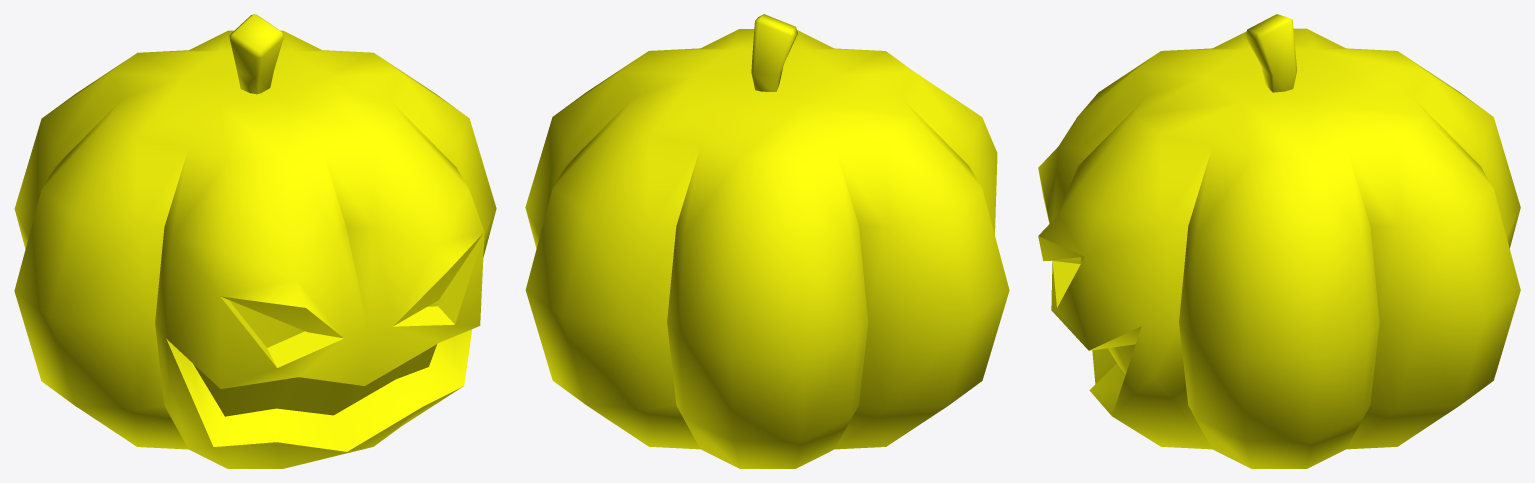
File: kaykit-pumpkin-yellow-jackolantern.glb
3 views of the same model, side by side, from view 1: azimuth 30°, elevation 25°; view 2: azimuth 150°, elevation 25°; view 3: azimuth 270°, elevation 25° (orthographic).
Parts seen in each view (by area): view 1: pumpkin_yellow_jackolantern; view 2: pumpkin_yellow_jackolantern; view 3: pumpkin_yellow_jackolantern.
Boxes of the visible parts, x1,y1,x2,y2 form: pumpkin_yellow_jackolantern: [14, 14, 496, 468]; pumpkin_yellow_jackolantern: [525, 14, 1009, 468]; pumpkin_yellow_jackolantern: [1038, 14, 1520, 468].
Bounding box in the file's own units: 1.5 × 1.3 × 1.4.
